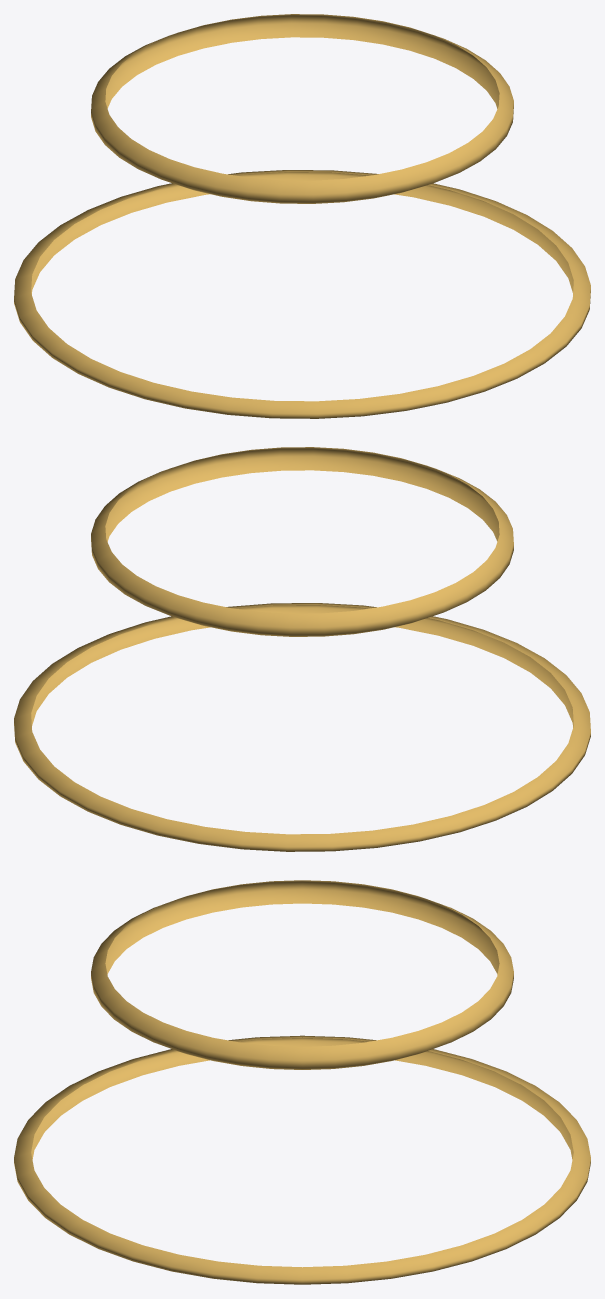
File: KRM_M39_P8_column_attic_base_gilt_fillets.fbx
The picture shows the model from 3 angles, top to bottom: view 1: azimuth 30°, elevation 25°; view 2: azimuth 150°, elevation 25°; view 3: azimuth 270°, elevation 25°; orthographic projection.
Visible parts, largest first — view 1: KRM_M39_P8_column_attic_base_gilt_fillets; view 2: KRM_M39_P8_column_attic_base_gilt_fillets; view 3: KRM_M39_P8_column_attic_base_gilt_fillets.
Boxes of the visible parts, x1,y1,x2,y2 form: KRM_M39_P8_column_attic_base_gilt_fillets: (14, 14, 590, 418); KRM_M39_P8_column_attic_base_gilt_fillets: (14, 447, 590, 851); KRM_M39_P8_column_attic_base_gilt_fillets: (14, 880, 590, 1284).
Bounding box in the file's own units: 101 × 39.5 × 101.
1 material, 1 textured.
